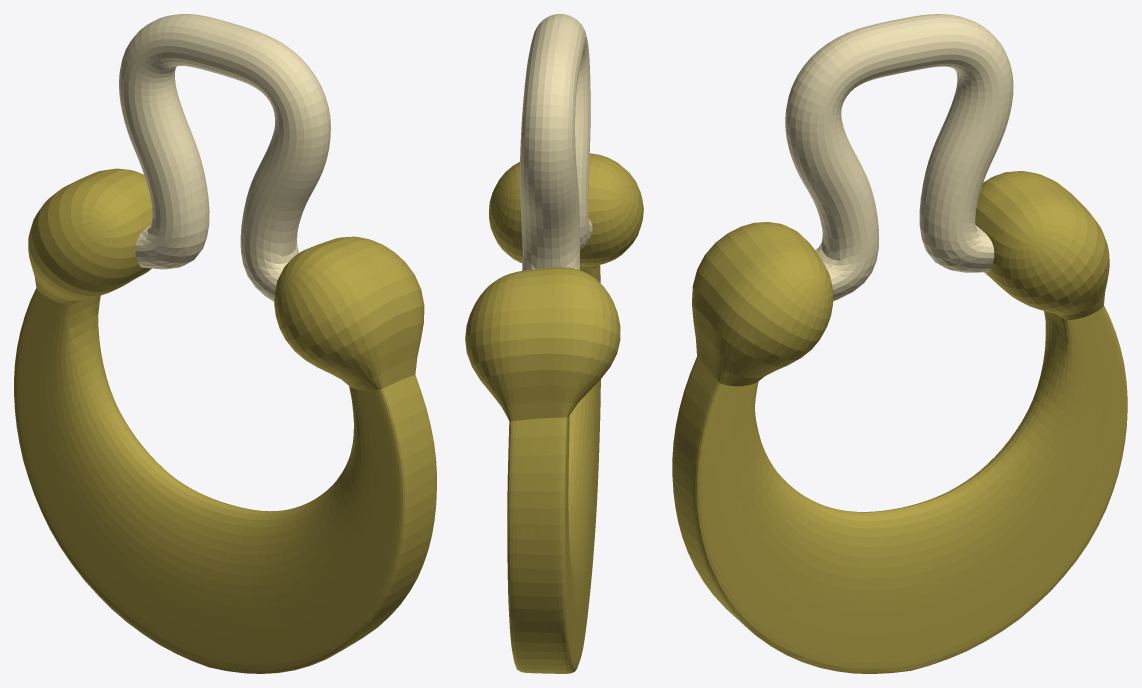
Rendered from COSSACK_EARRING_4#10.glb.
3 renders of one model, left to right at view 1: azimuth 30°, elevation 25°; view 2: azimuth 150°, elevation 25°; view 3: azimuth 270°, elevation 25°, orthographic. The views are drawn at different scales.
Parts seen in each view (by area): view 1: PM3D_Cylinder3D1_5, PM3D_Cylinder3D1_5.001; view 2: PM3D_Cylinder3D1_5, PM3D_Cylinder3D1_5.001; view 3: PM3D_Cylinder3D1_5, PM3D_Cylinder3D1_5.001.
Part boxes in pixels (x1,y1,x2,y2): PM3D_Cylinder3D1_5: (14, 168, 436, 673); PM3D_Cylinder3D1_5.001: (119, 14, 330, 301); PM3D_Cylinder3D1_5: (465, 153, 643, 673); PM3D_Cylinder3D1_5.001: (519, 14, 592, 270); PM3D_Cylinder3D1_5: (672, 171, 1127, 673); PM3D_Cylinder3D1_5.001: (785, 14, 1013, 300).
Size of the model in its own units: 0.16 by 0.3913 by 0.2529.
